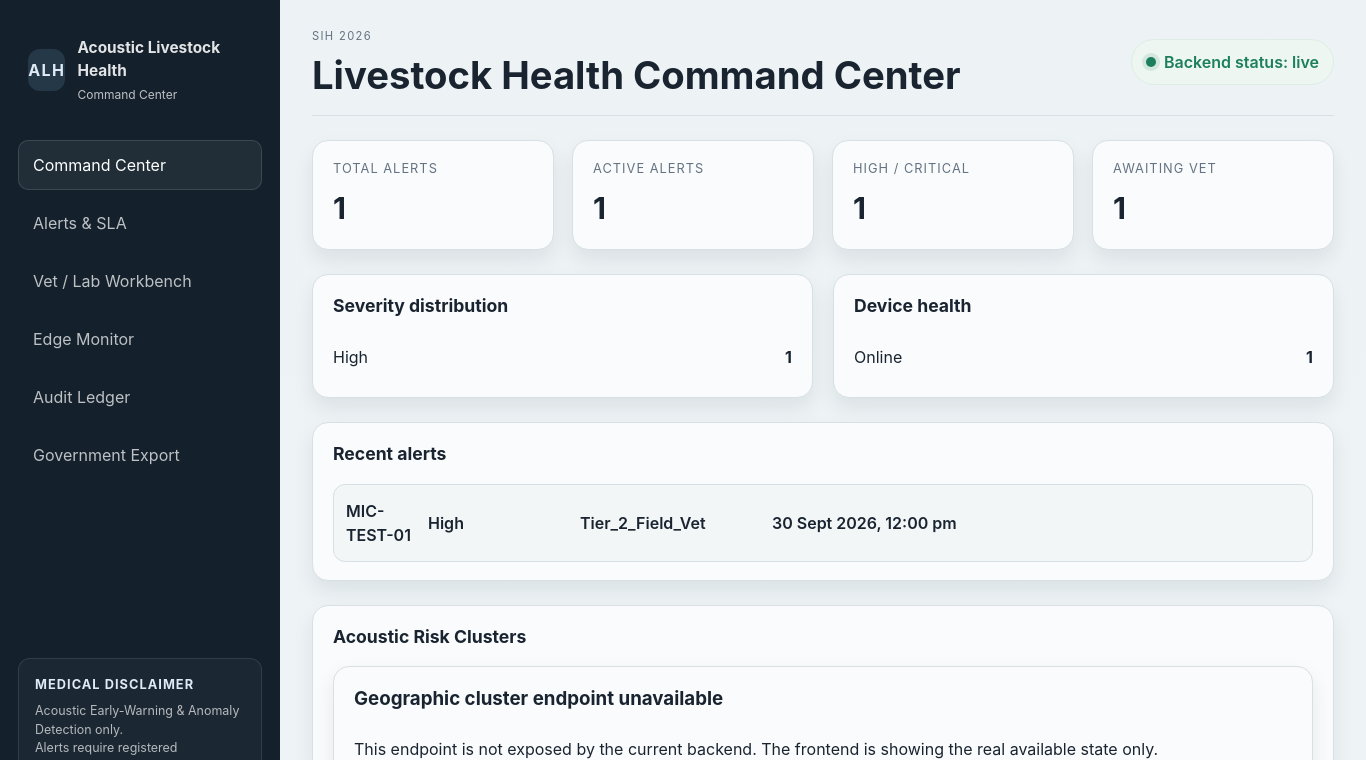
Scenario: App shell and dashboard › shows the audit ledger and integrity verification result
Click the button "Audit Ledger" at point(140, 397), box [18,372,262,422]
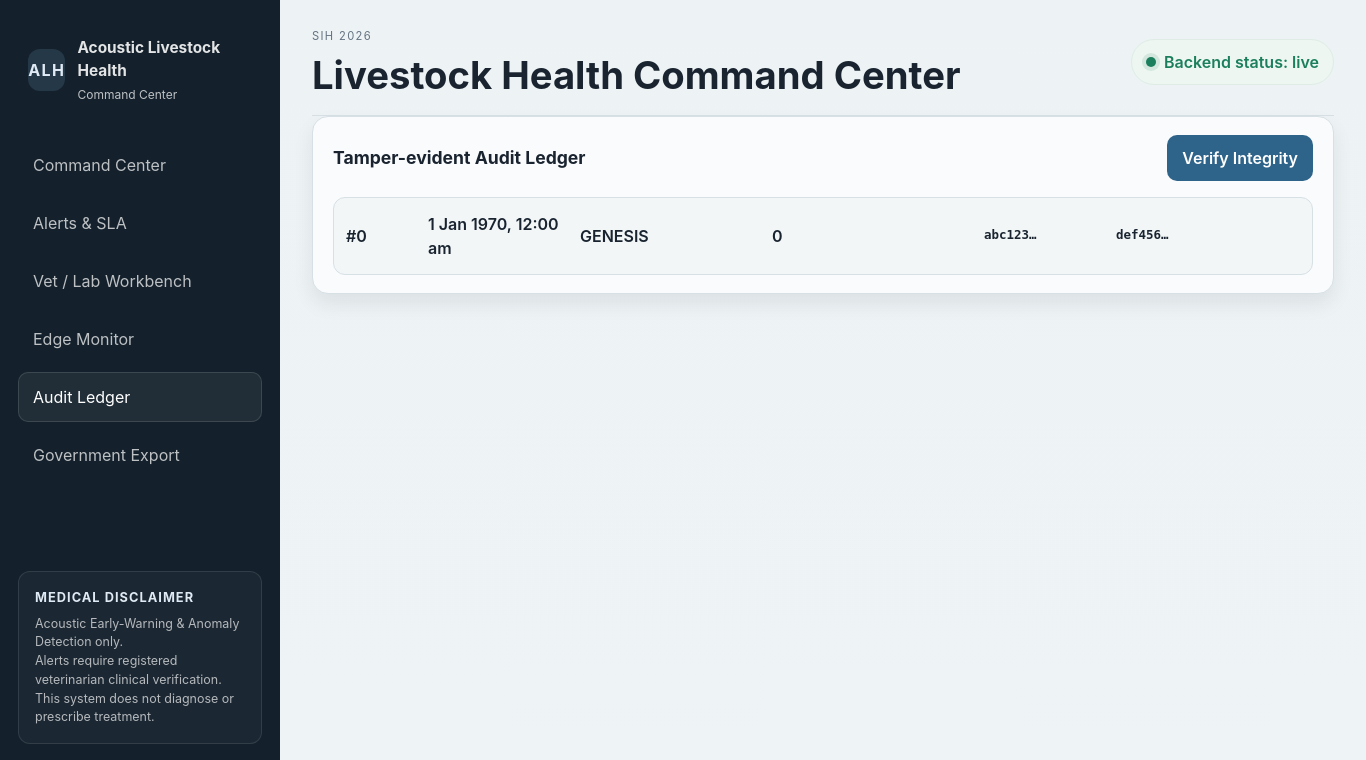
Result: the heading "Tamper-evident Audit Ledger" is shown at [333,145,586,171]
Click the button "Verify Integrity" at point(1240, 158), box [1167,135,1313,181]
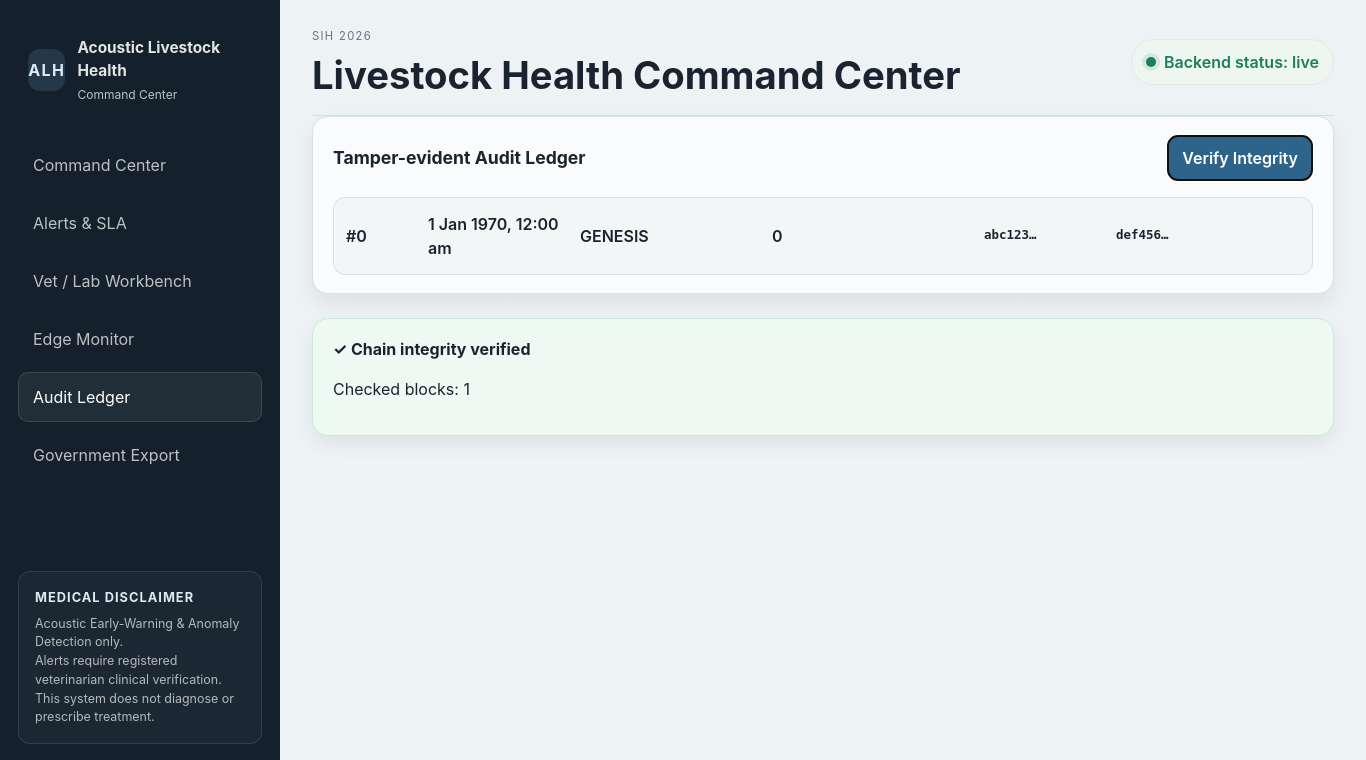
Result: the text "✓ Chain integrity verified" is shown at [333,339,530,359]
